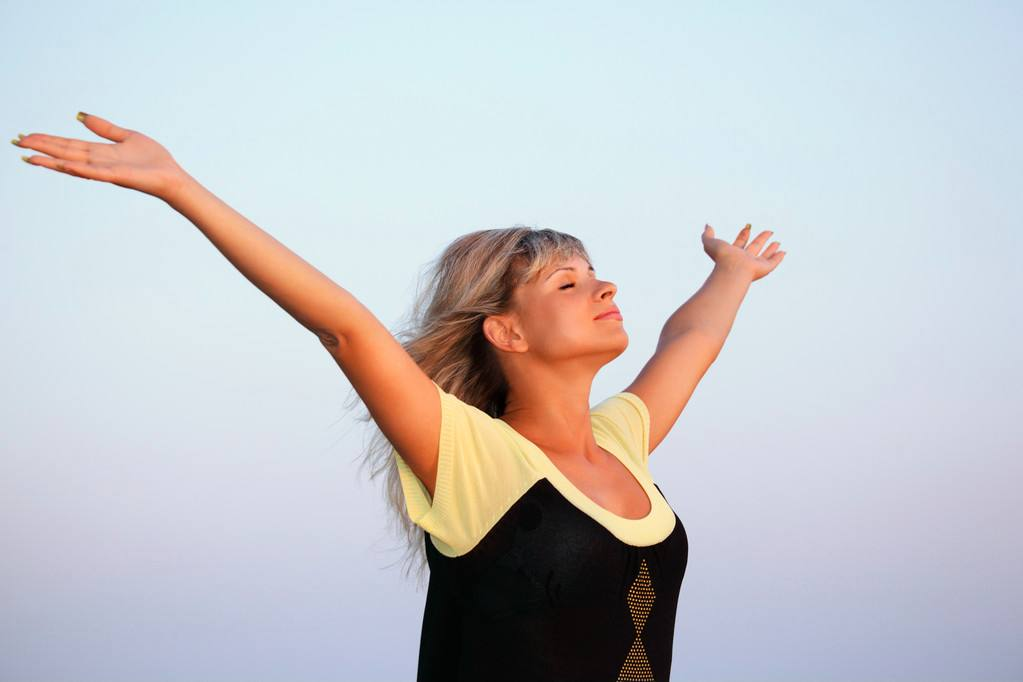no-phone: (9, 105, 183, 199), (699, 212, 789, 285)
